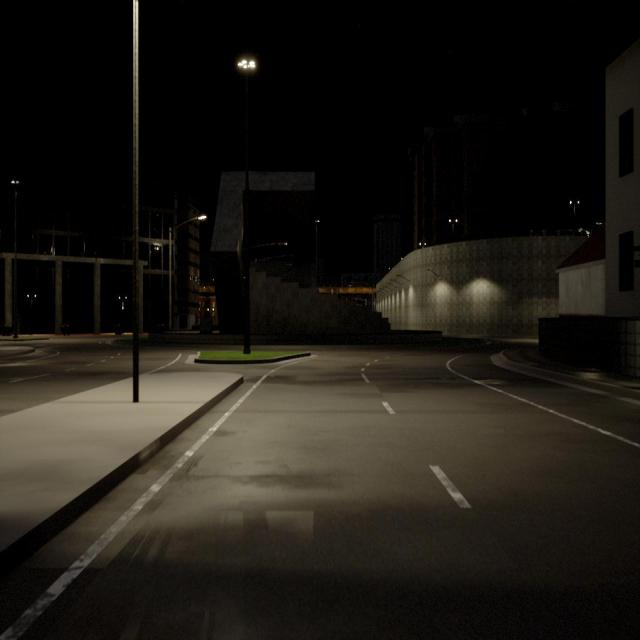traffic_light: (346, 298, 348, 301), (355, 298, 357, 301)
